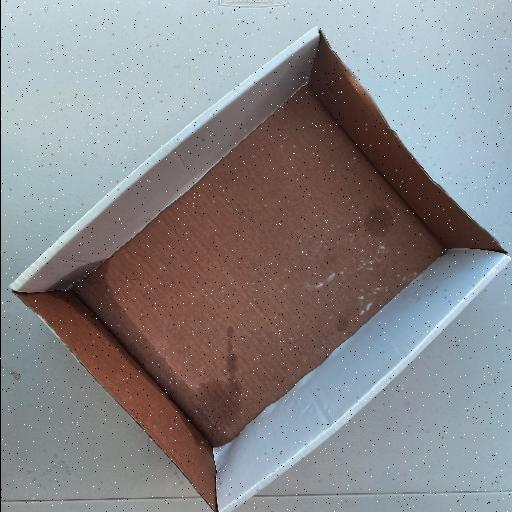Cardboard: (10, 24, 510, 508)
